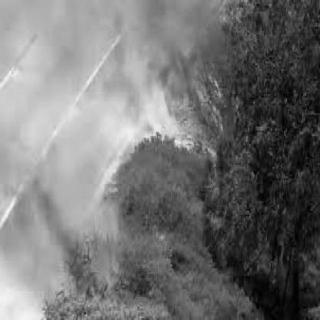Fire: (157, 47, 250, 136)
